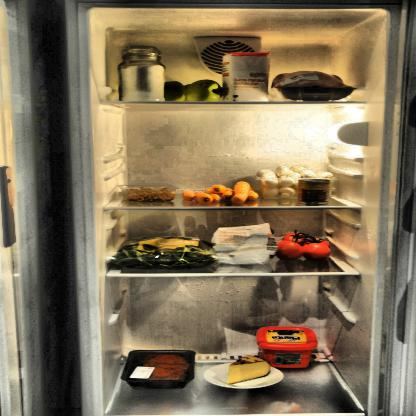apple: (160, 79, 230, 103)
beef: (127, 349, 194, 386)
butter: (256, 326, 322, 370)
carrot: (180, 180, 260, 204)
cheese: (226, 354, 272, 384)
chicken: (271, 68, 359, 102)
corn: (297, 177, 333, 208)
green_beans: (108, 234, 214, 272)
mushrooms: (252, 164, 332, 200)
shrimp: (119, 184, 177, 201)
tomato: (274, 230, 334, 262)
